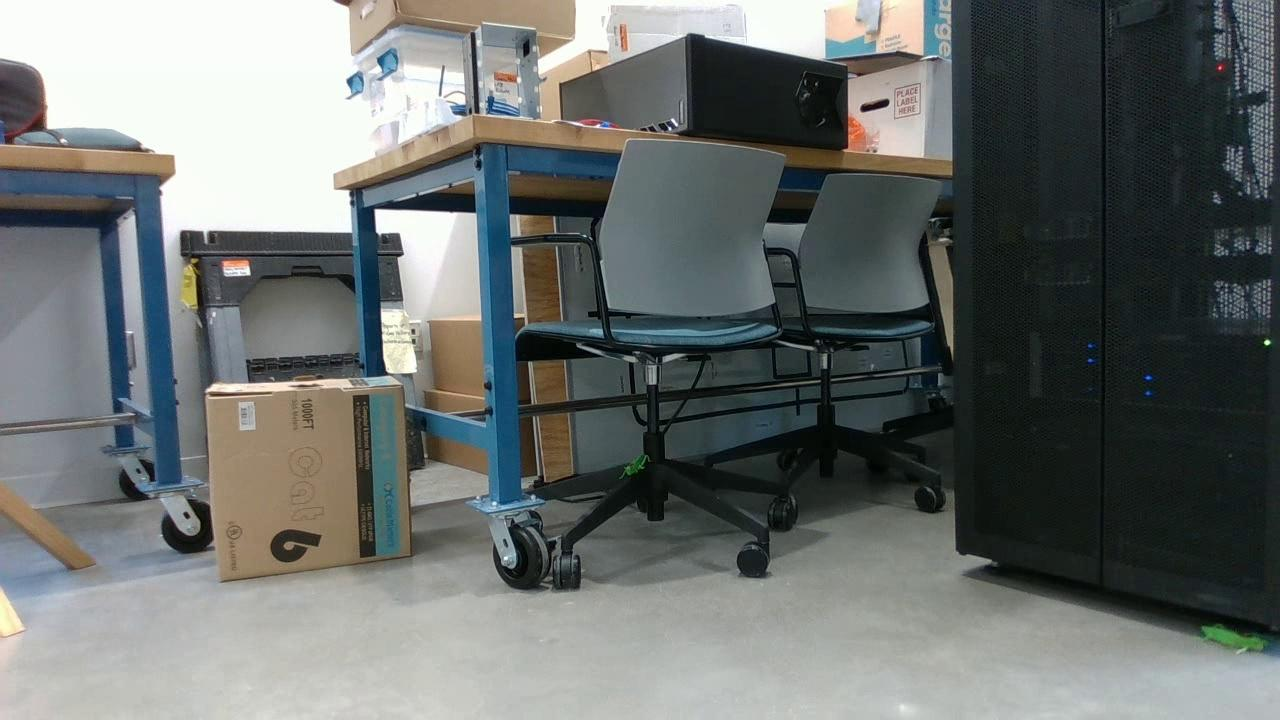grasshopper: (1193, 625, 1269, 659), (618, 455, 652, 482)
